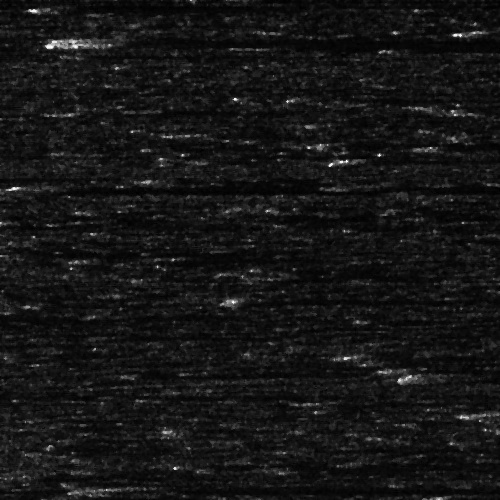object: (32, 30, 147, 47), (244, 134, 379, 147), (194, 292, 267, 305), (324, 350, 387, 359), (36, 2, 89, 11), (415, 143, 468, 150), (291, 121, 332, 126), (0, 187, 61, 190)
shadow: (90, 30, 500, 47), (230, 292, 484, 305), (312, 134, 500, 147), (63, 2, 316, 11), (30, 187, 500, 190), (0, 171, 89, 182), (356, 350, 442, 359), (312, 121, 399, 126), (441, 143, 500, 150), (0, 340, 90, 343)
